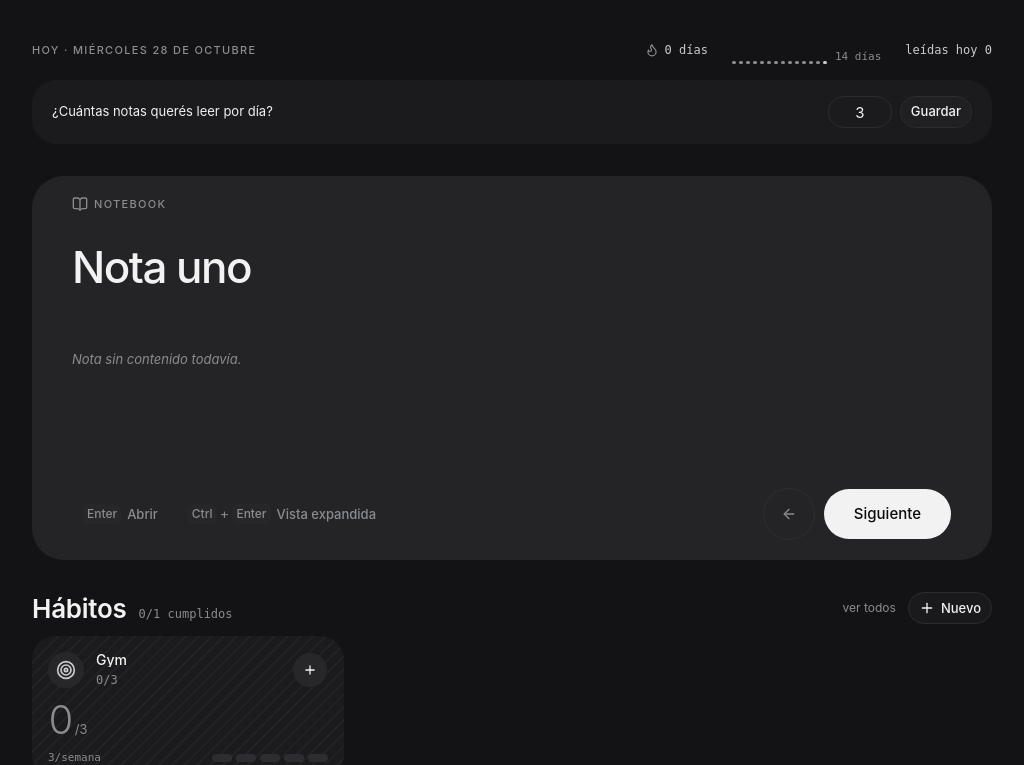
Test case: flashcard → nota demorada: el placeholder nunca es la flashcard (no filtra la respuesta)
The width and height of the screenshot is (1024, 765).
Expected: the heading "Nota uno" is shown, [72,240,251,294]
Press ArrowRight
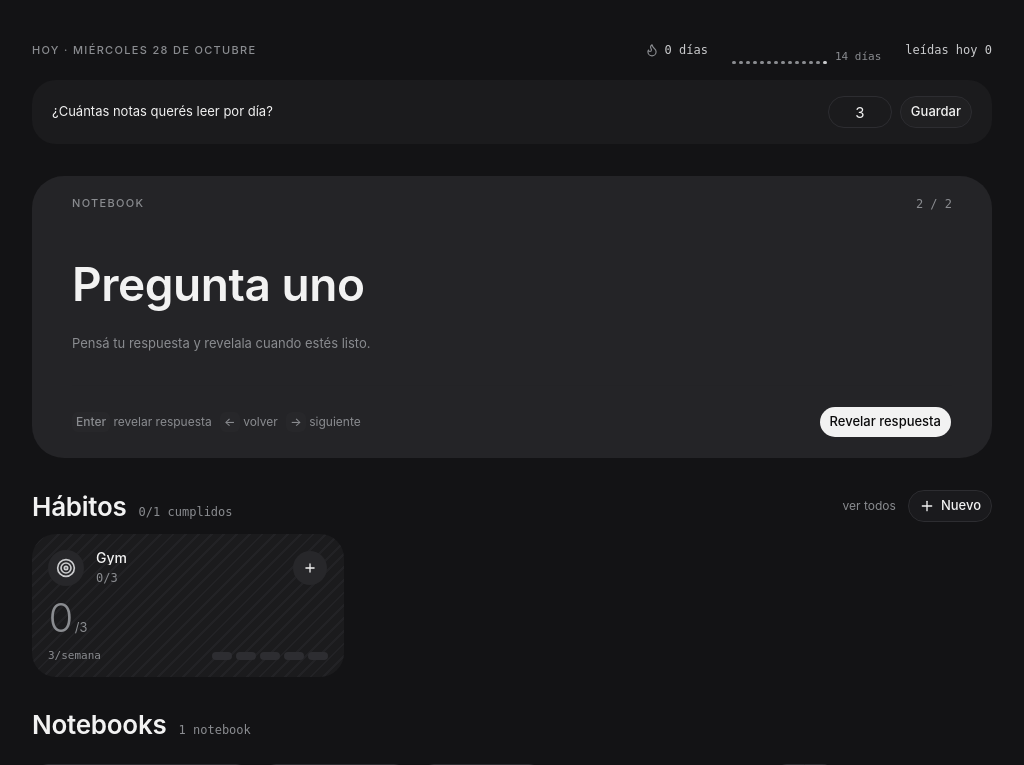
Click the button "Revelar respuesta" at (885, 422), box [819,406,952,438]
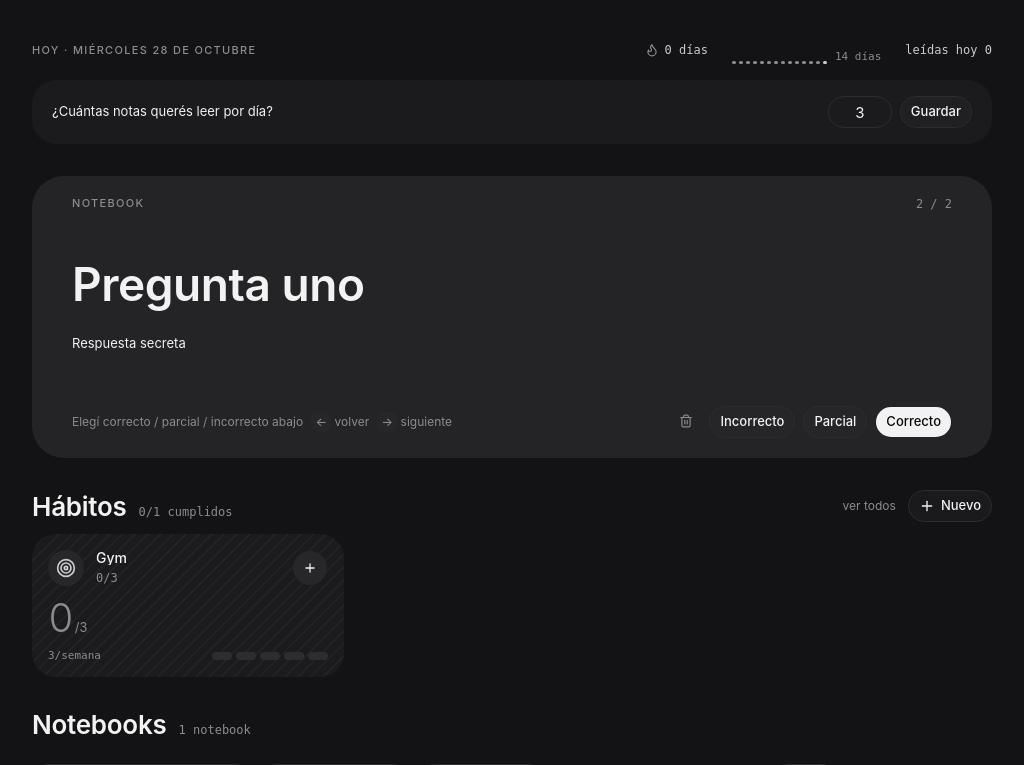
Expected: the text "Respuesta secreta" is shown, [72,335,186,351]
Press ArrowRight
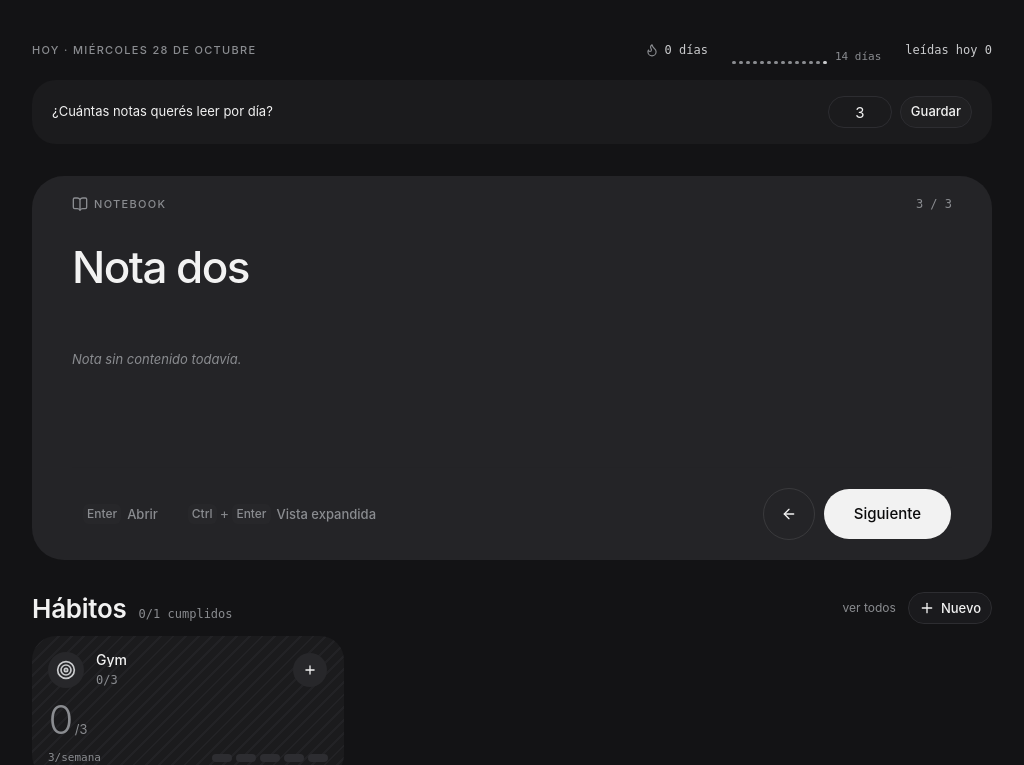
Expected: the heading "Pregunta uno" is gone
Expected: the text "Respuesta secreta" is gone
Expected: the heading "Nota dos" is shown, [72,240,249,294]
